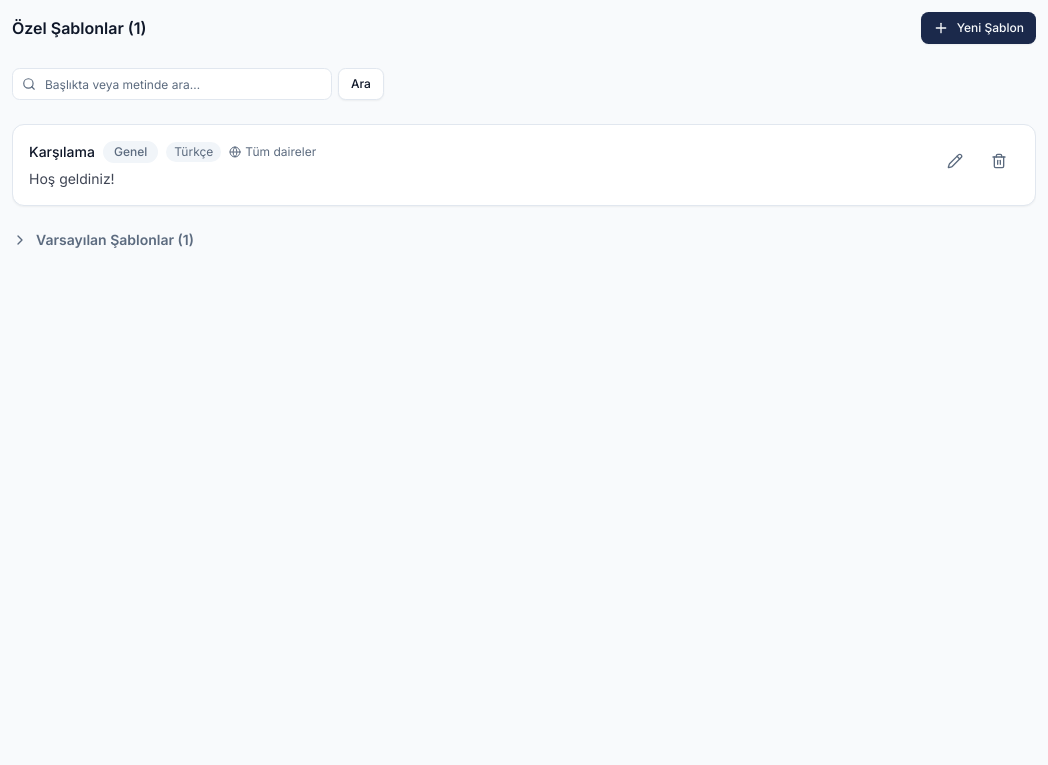
şablon düzenleme — geç dönen tam metin okuması sonradan açılan formu ezmez (11-19 gece, Haiku bulgusu) › 🚨 'Düzenle' beklerken 'Kendime uyarla' açılırsa geç gelen yanıt uyarlama formunu EZMEZ
This screenshot has width=1048, height=765.
Click the button "Varsayılan Şablonlar (1)": [103, 240] box x1=12 y1=224 x2=194 y2=256
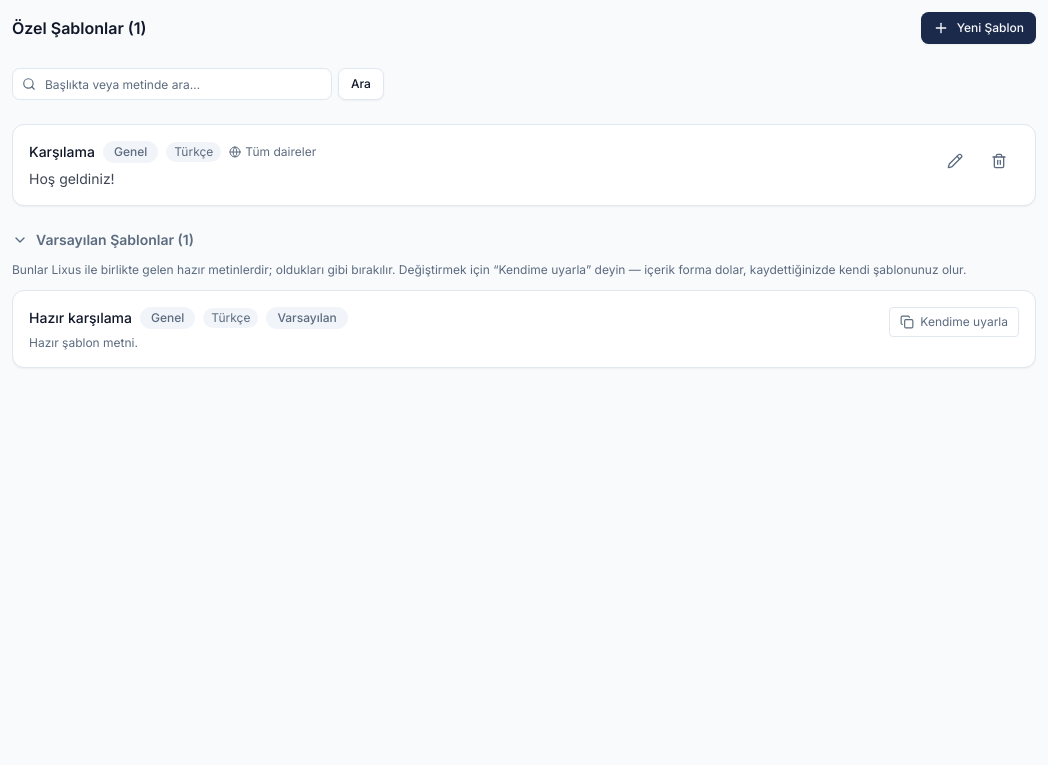
Click the button named "Düzenle": [955, 161] box x1=935 y1=141 x2=975 y2=181
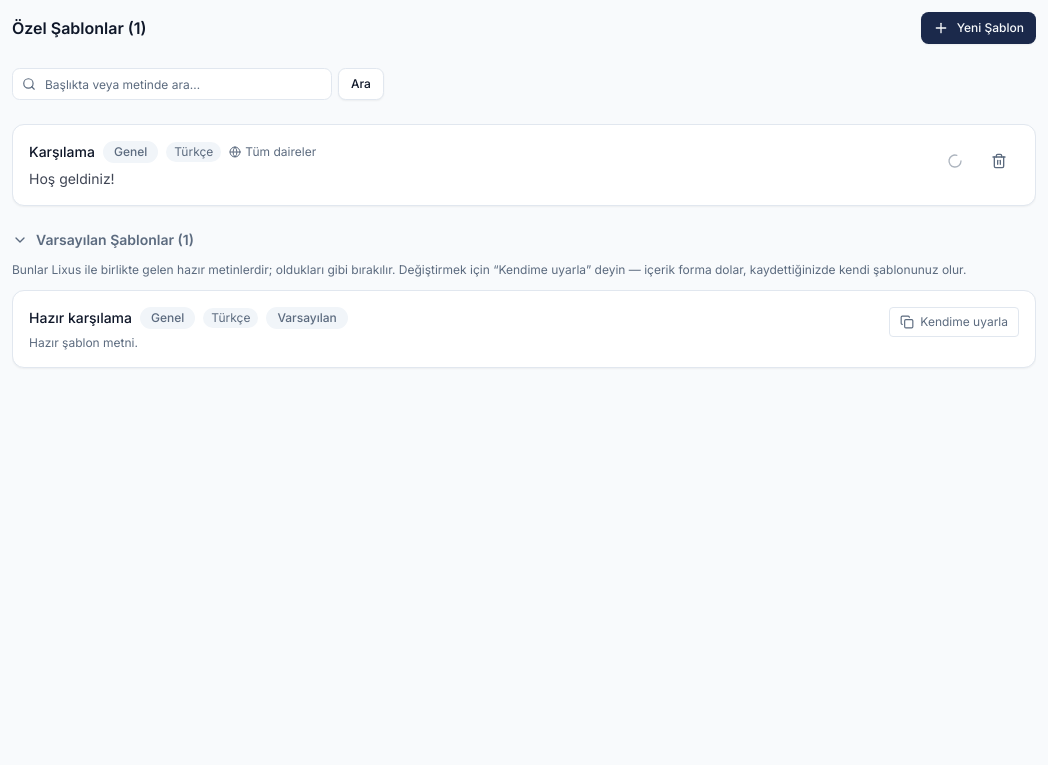
Click the button "Kendime uyarla": [954, 322] box x1=889 y1=307 x2=1019 y2=337
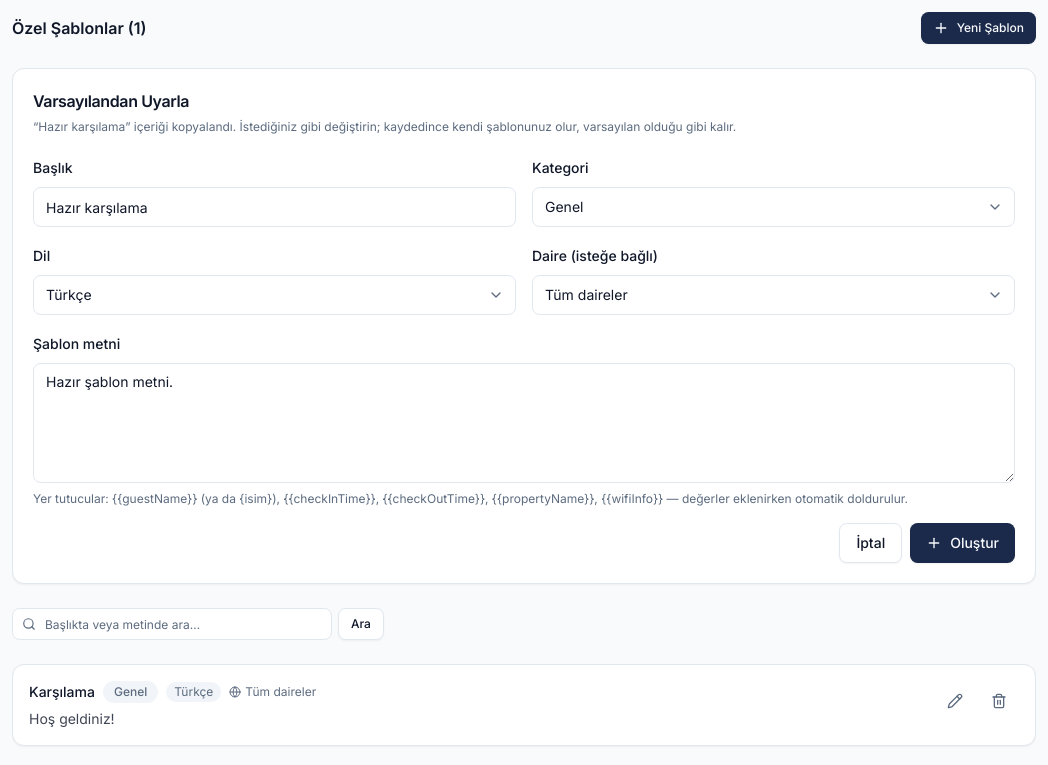
Expected: the text box labelled "Şablon metni" holds "Hazır şablon metni.", x1=33 y1=363 x2=1015 y2=483
